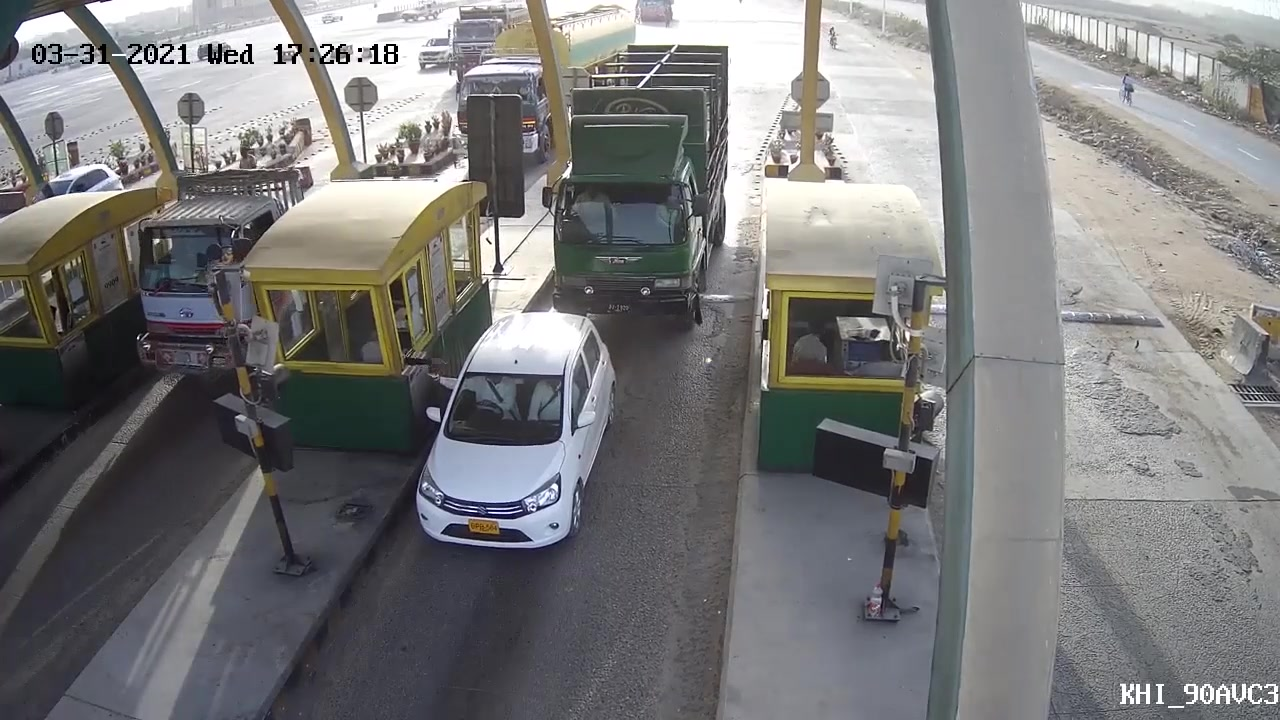F1: (365, 304, 631, 578)
F5: (544, 33, 742, 330)
